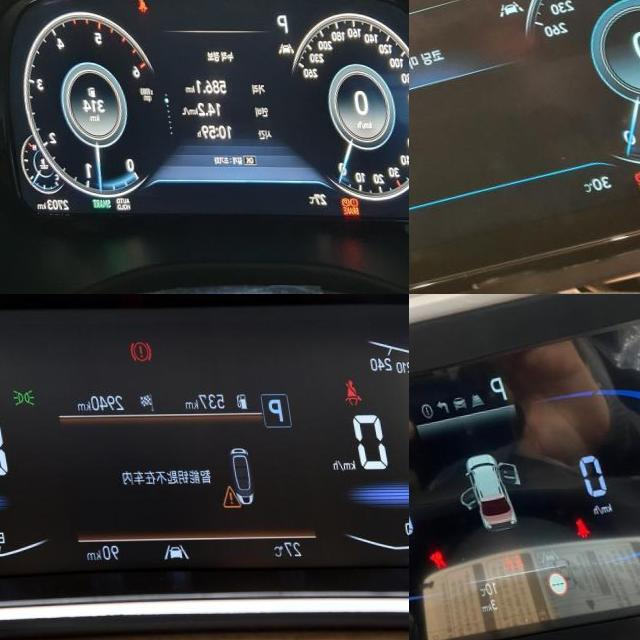Central Warning lamp: (208, 485, 230, 508)
LaneCenteringOff: (486, 0, 518, 17), (148, 544, 177, 561), (272, 41, 288, 54)
SideLamp: (3, 387, 28, 407)
